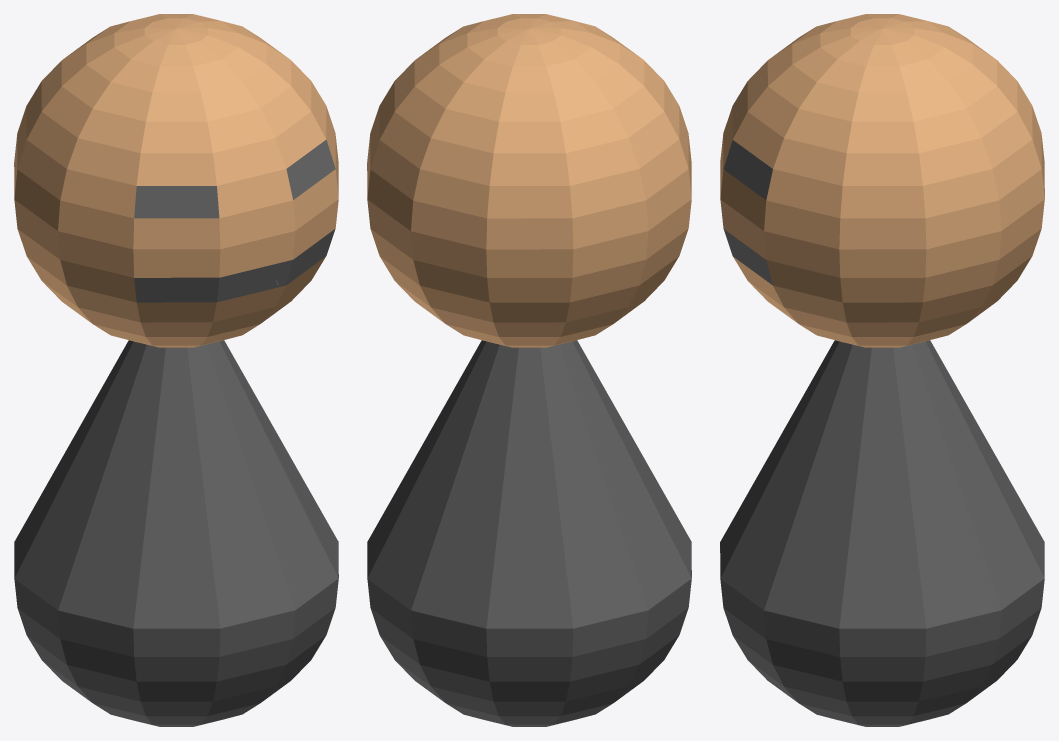
Rendered from Gray.glb.
3 views of the same model, side by side, from view 1: azimuth 30°, elevation 25°; view 2: azimuth 150°, elevation 25°; view 3: azimuth 270°, elevation 25° (orthographic).
Visible parts, largest first — view 1: Цилиндр.002; view 2: Цилиндр.002; view 3: Цилиндр.002.
Boxes of the visible parts, x1=… form: Цилиндр.002: x1=14, y1=14, x2=338, y2=726; Цилиндр.002: x1=367, y1=14, x2=691, y2=726; Цилиндр.002: x1=720, y1=14, x2=1044, y2=726.
Size of the model in its own units: 0.8453 by 1.96 by 0.8455.
